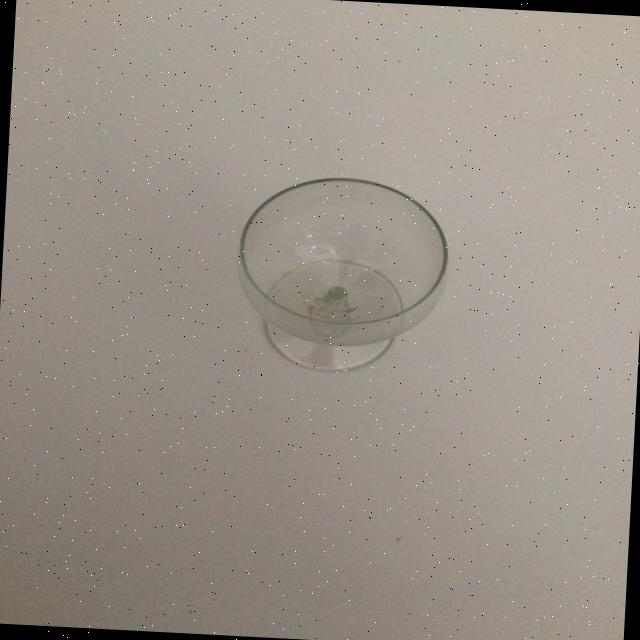glass: (232, 172, 453, 378)
